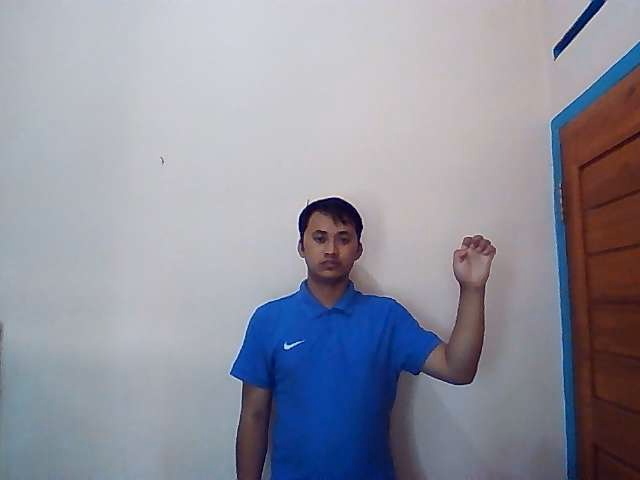E: (451, 233, 497, 286)
